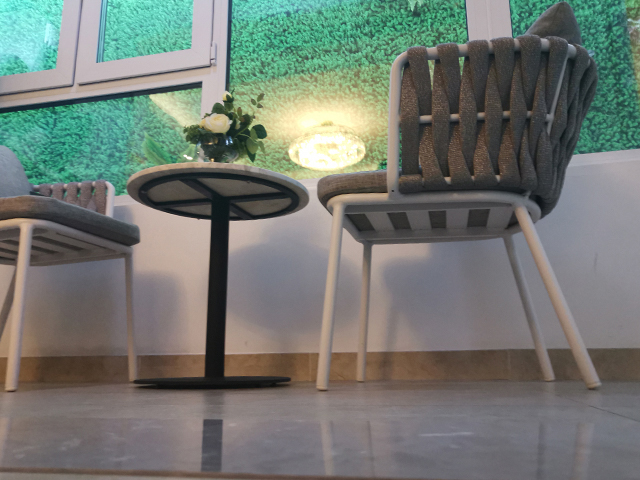stool: (314, 1, 604, 393), (1, 145, 142, 393)
table: (124, 160, 312, 391)
